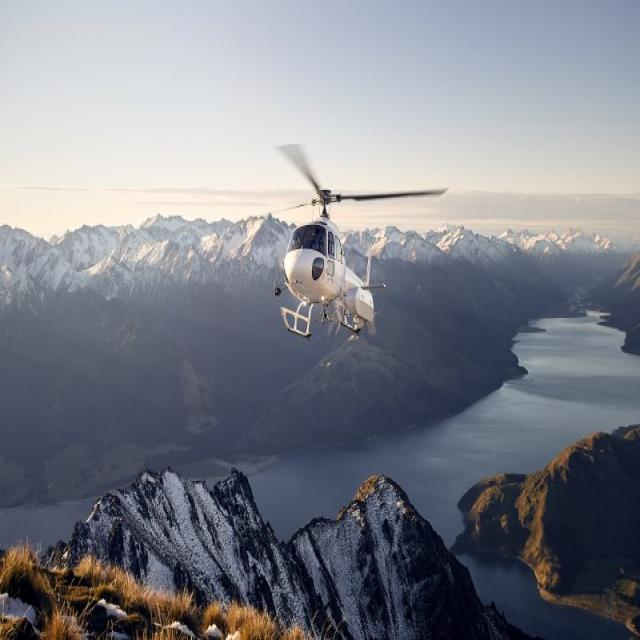helicopter: (196, 145, 449, 345)
